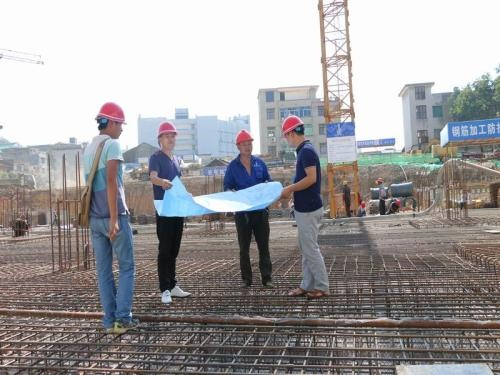red: (93, 100, 126, 143), (281, 115, 307, 149), (154, 121, 178, 153), (233, 127, 256, 158)
